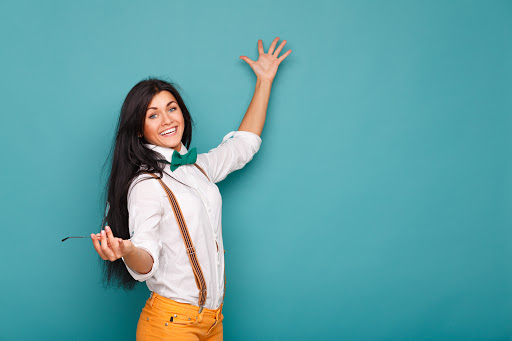bow: (166, 146, 201, 175)
